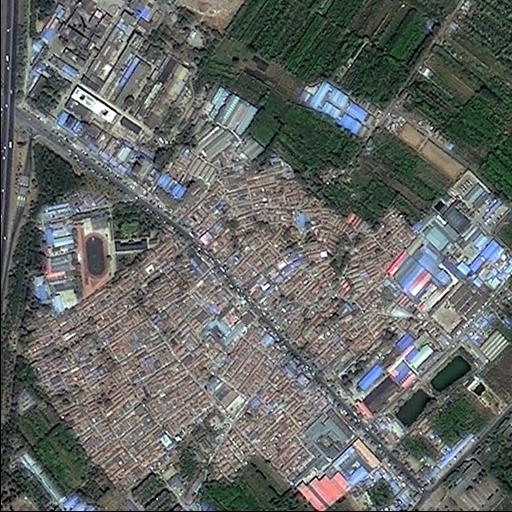school: (77, 203, 161, 287)
